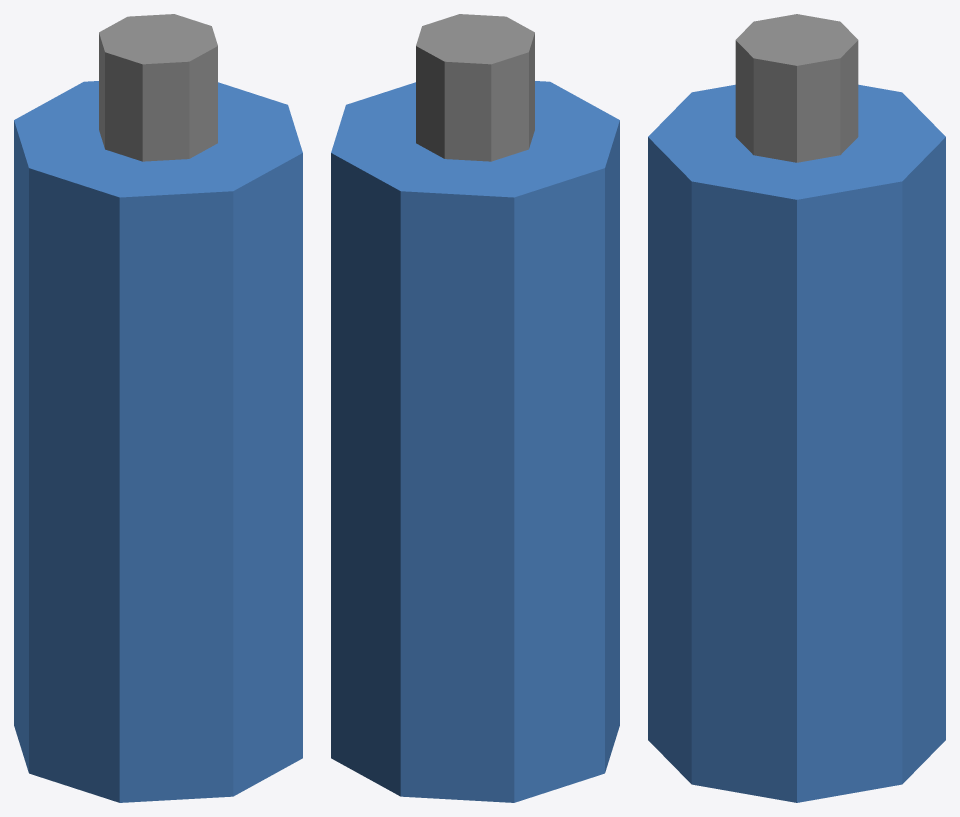
The model's file is Bottle_20.fbx.
3 views of the same model, side by side, from view 1: azimuth 30°, elevation 25°; view 2: azimuth 150°, elevation 25°; view 3: azimuth 270°, elevation 25° (orthographic).
Parts seen in each view (by area): view 1: Bottle_20; view 2: Bottle_20; view 3: Bottle_20.
Boxes of the visible parts, x1,y1,x2,y2 form: Bottle_20: (14, 14, 302, 802); Bottle_20: (331, 14, 619, 802); Bottle_20: (648, 14, 945, 802).
Bounding box in the file's own units: 9.16 × 9.16 × 23.74.
